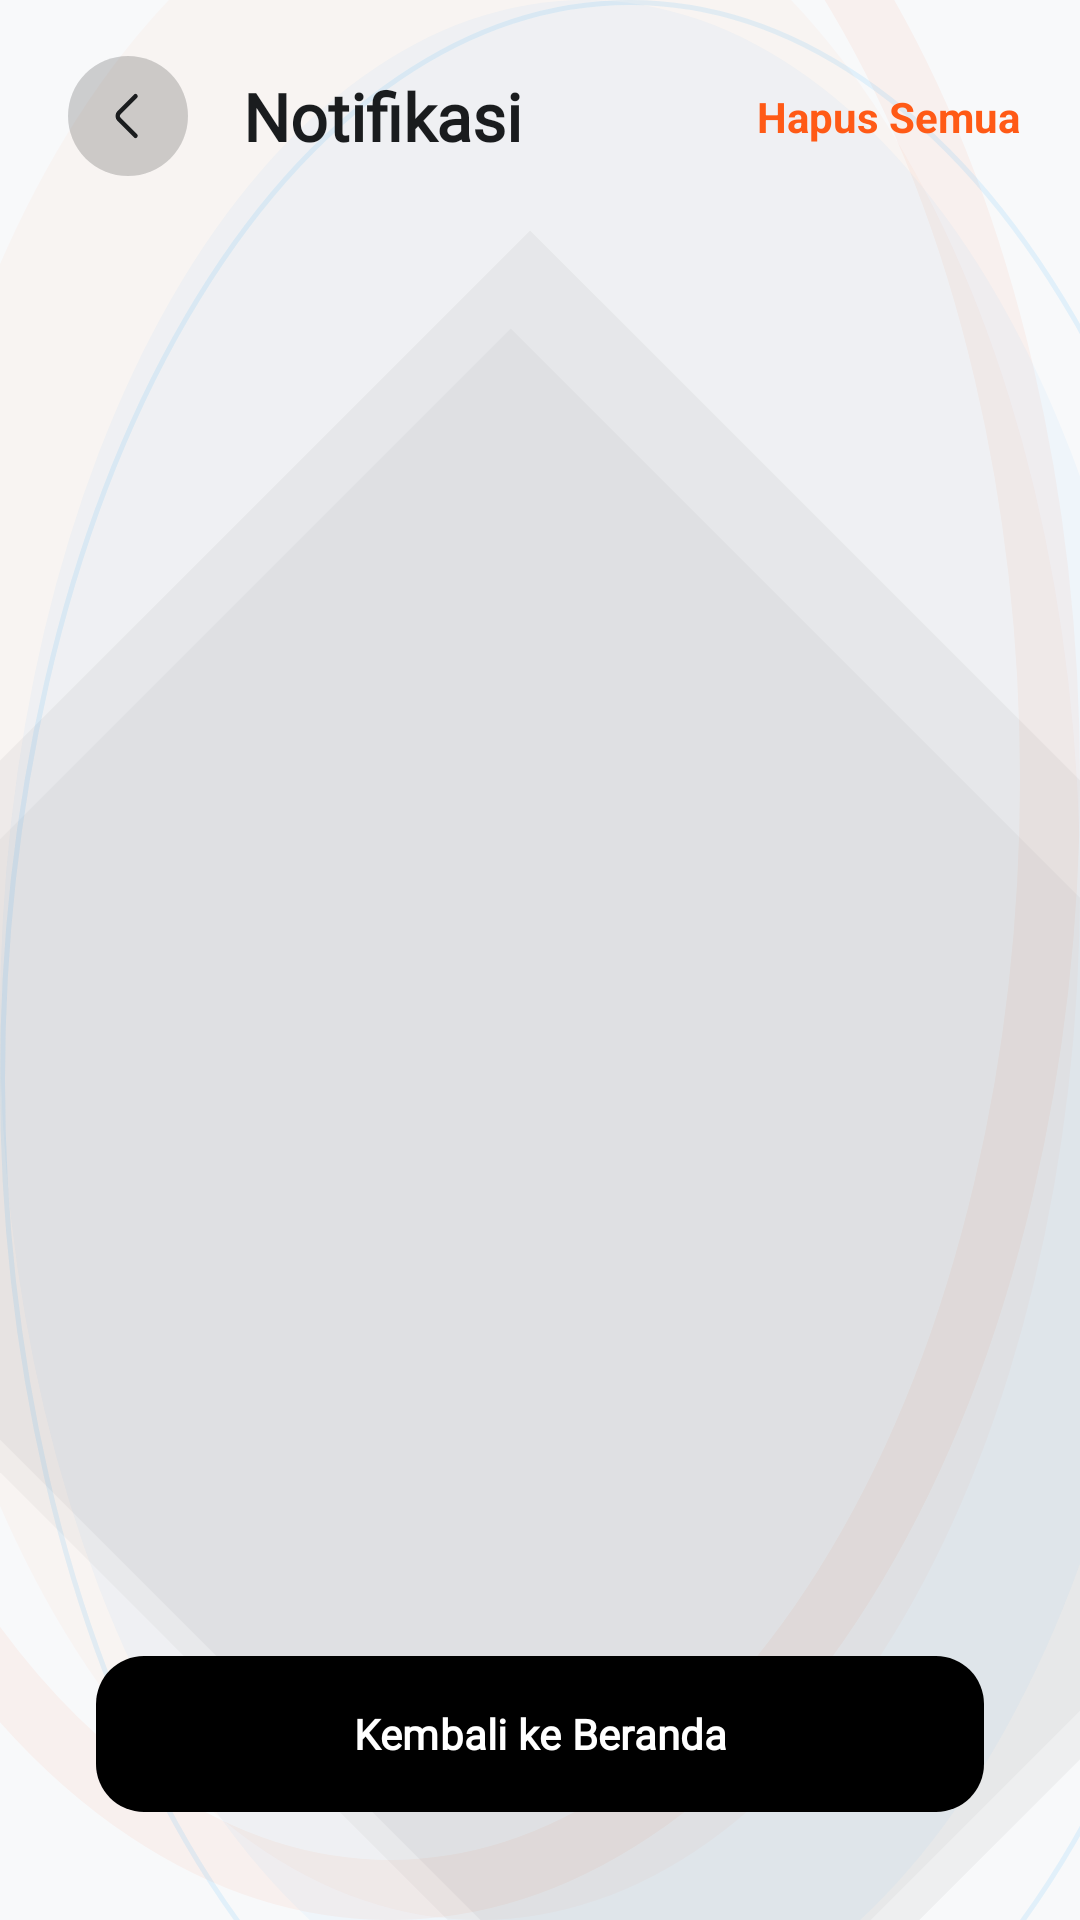

Icon bounding boxes for this 1080w x 1920h phone screenshot, format (x1, y1, x2, y2):
Kembali: (68, 56, 188, 176)
